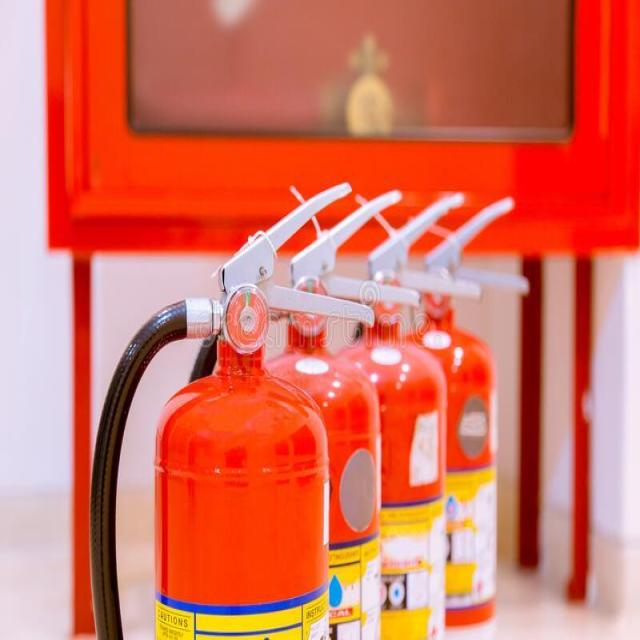fire_extinguisher: (85, 174, 382, 639), (180, 184, 426, 639), (284, 186, 484, 639), (353, 192, 532, 639)
